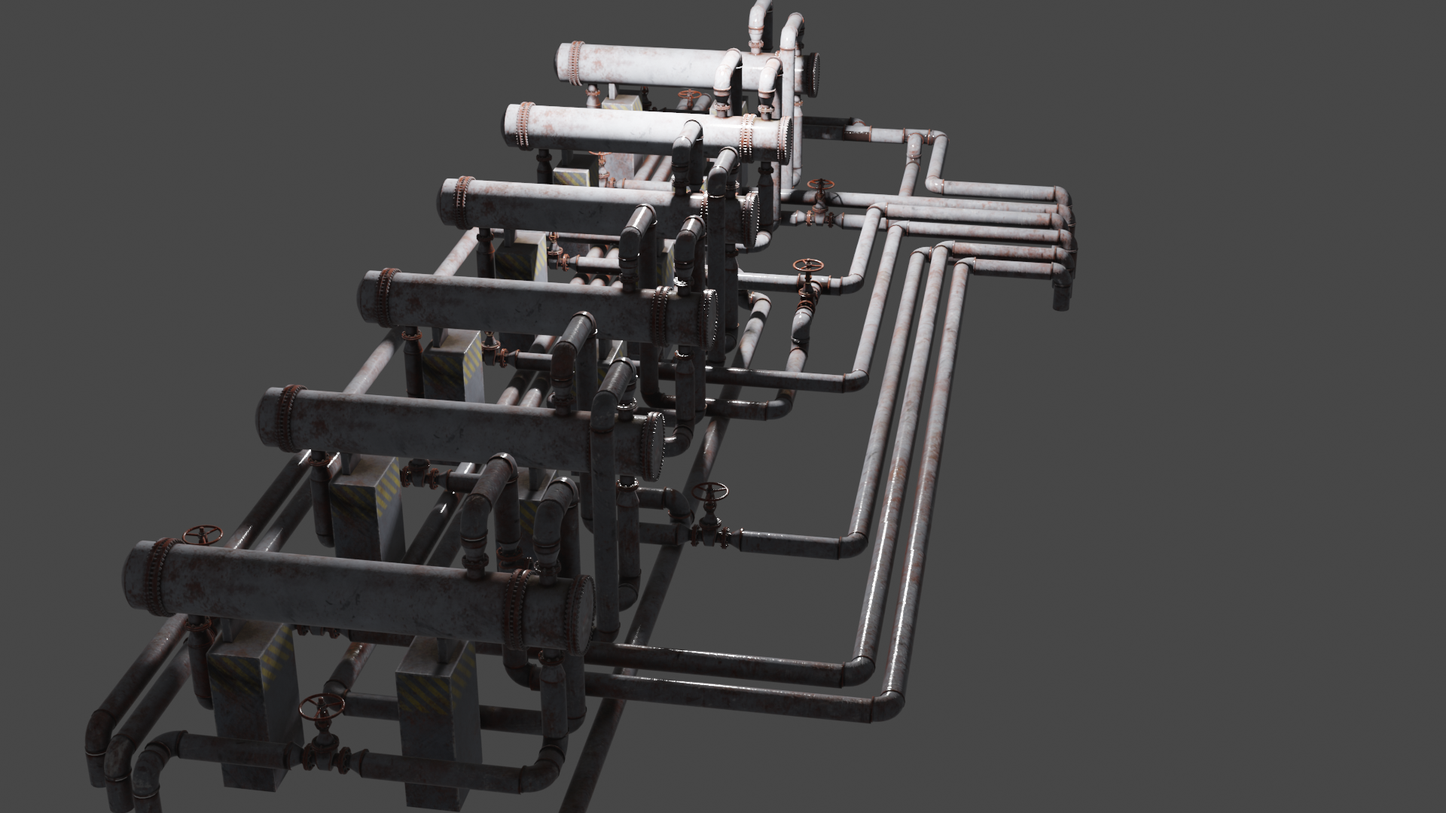HE_1: (115, 537, 595, 655)
HE_2: (249, 390, 665, 475)
HE_3: (353, 268, 723, 348)
HE_4: (437, 174, 761, 248)
HE_5: (496, 100, 796, 160)
HE_6: (552, 40, 824, 99)
